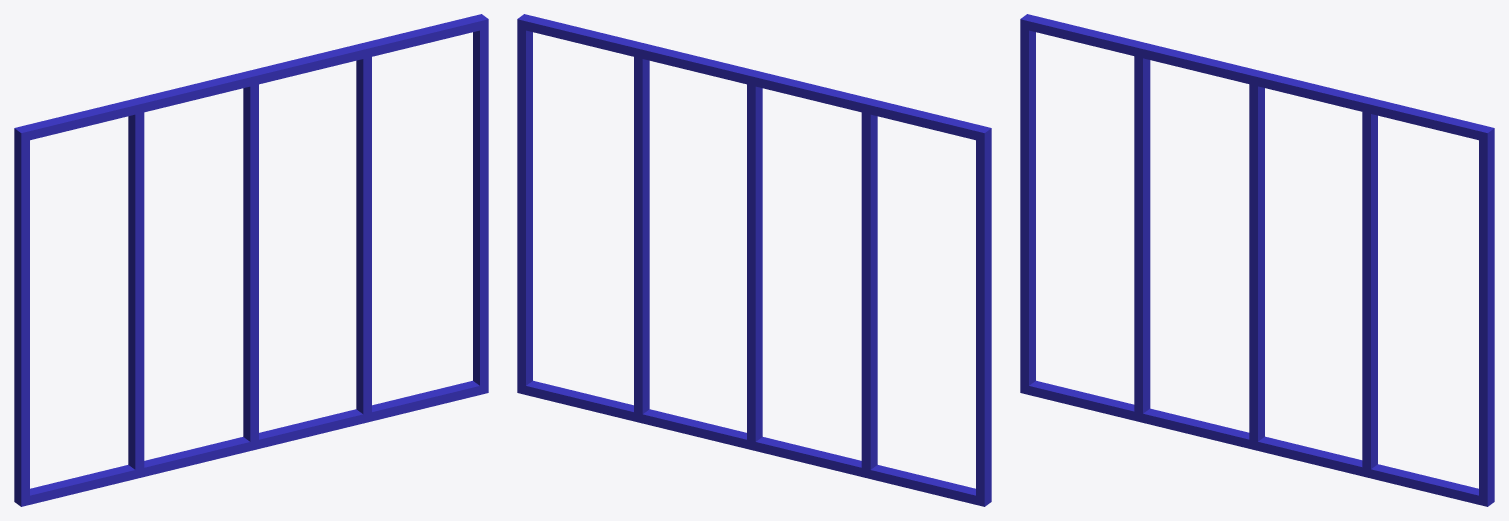
The model's file is WallFrame.fbx.
3 views of the same model, side by side, from view 1: azimuth 30°, elevation 25°; view 2: azimuth 150°, elevation 25°; view 3: azimuth 330°, elevation 25° (orthographic).
Parts seen in each view (by area): view 1: WallFrame; view 2: WallFrame; view 3: WallFrame.
Part boxes in pixels (<box>): WallFrame: <box>14,14,488,506</box>; WallFrame: <box>517,14,991,506</box>; WallFrame: <box>1020,14,1494,506</box>.
Bounding box in the file's own units: 720 × 550 × 18.86.
